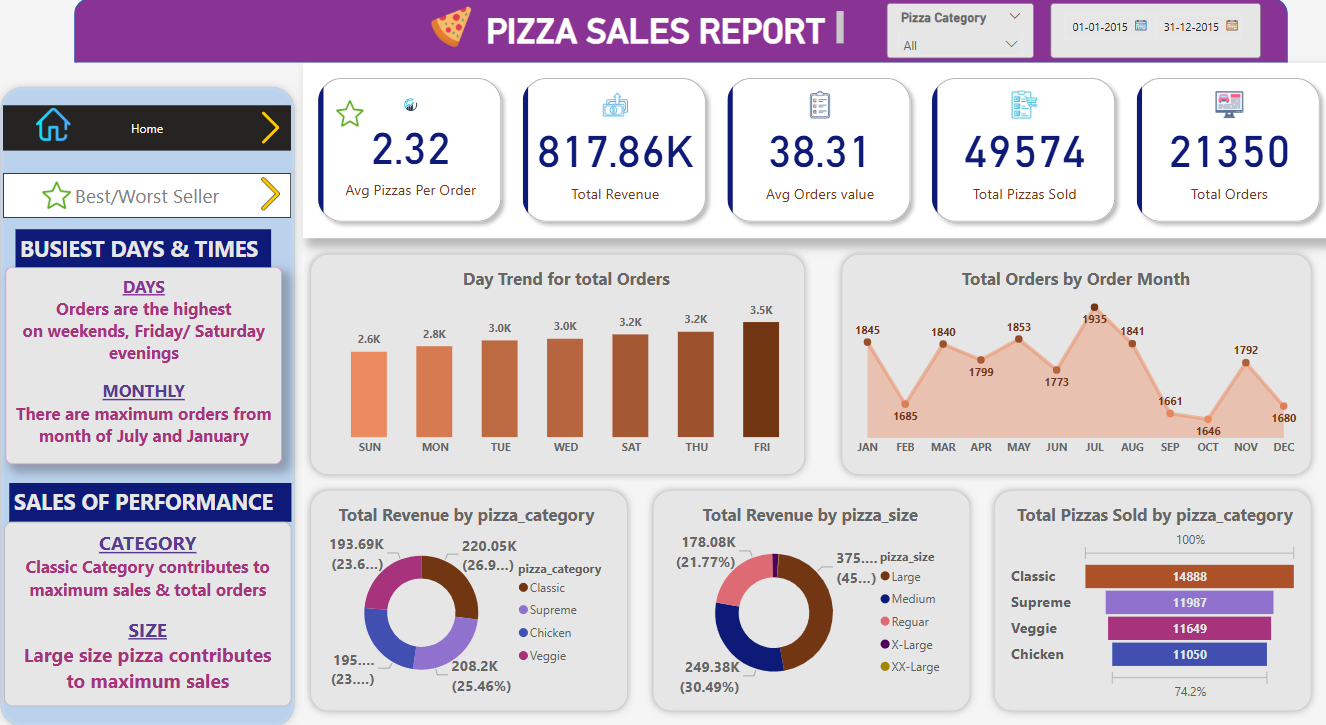

The page's visual inventory and layout, read from the dashboard file:
{"tool":"powerbi","page":{"name":"Home","canvas":[1500,820],"ordinal":0},"visuals":[{"type":"shape","box":[0,90,344.3,730],"z":0},{"type":"cardVisual","fields":{"Data":["your_file_formatted.Avg Pizzas Per Order","your_file_formatted.Total Revenue","your_file_formatted.Avg Orders value","your_file_formatted.Total Pizzas Sold","your_file_formatted.Total Orders"]},"box":[345.4,72.4,1154.5,195],"z":1000},{"type":"shape","box":[90,0,1352,72],"z":2000},{"type":"textbox","box":[544,10,408,50],"z":3000},{"type":"image","box":[478,4,66,56],"z":4000},{"type":"shape","box":[345,277.5,567.5,262.5],"z":5000},{"type":"columnChart","title":"Day Trend for total Orders","fields":{"Category":["your_file_formatted.Order Day"],"Y":["your_file_formatted.Total Orders"]},"box":[365,300,547.5,220],"z":6000},{"type":"textbox","box":[13.3,300,308.3,220],"z":7000},{"type":"shape","box":[937.5,277.5,540,262.5],"z":8000},{"type":"areaChart","fields":{"Category":["your_file_formatted.Order Month"],"Y":["your_file_formatted.Total Orders"]},"box":[952.5,300,507.5,220],"z":9000},{"type":"shape","box":[345,540,370,262.5],"z":10000},{"type":"shape","box":[727.5,540,370,262.5],"z":11000},{"type":"shape","box":[1107.5,540,370,262.5],"z":12000},{"type":"donutChart","fields":{"Category":["your_file_formatted.pizza_category"],"Y":["your_file_formatted.Total Revenue"]},"box":[365,562.5,325,220],"z":13000},{"type":"donutChart","fields":{"Category":["your_file_formatted.pizza_size"],"Y":["your_file_formatted.Total Revenue"]},"box":[747.5,562.5,325,220],"z":14000},{"type":"funnel","fields":{"Category":["your_file_formatted.pizza_category"],"Y":["your_file_formatted.Total Pizzas Sold"]},"box":[1130,562.5,330,226],"z":15000},{"type":"textbox","box":[25,257.5,285,42.5],"z":16000},{"type":"textbox","box":[18.6,540,314.3,42.9],"z":17000},{"type":"textbox","box":[12.9,582.9,320,205.7],"z":18000},{"type":"slicer","fields":{"Values":["your_file_formatted.pizza_category"]},"box":[995.7,5.7,164.3,61.4],"z":19000},{"type":"pageNavigator","box":[11.7,120,321.7,50],"z":19500},{"type":"slicer","fields":{"Values":["your_file_formatted.order_date"]},"box":[1178.6,5.7,234.3,61.4],"z":20000},{"type":"image","box":[281.7,121.7,56.7,46.7],"z":21000},{"type":"image","box":[365,108.3,65,40],"z":22000},{"type":"image","box":[43.3,113.3,48.3,56.7],"z":23000},{"type":"pageNavigator","box":[11.7,195,321.7,50],"z":25000},{"type":"image","box":[50,195,41.7,50],"z":25001},{"type":"image","box":[281.7,195,56.7,46.7],"z":25002}]}

Visuals, with their boxes in screenshot pixels (x1, y1, x2, y2), scaled from the page's 1500x820 canvas onto the 1326x725 screenshot:
shape: box=[0, 80, 304, 724]
cardVisual - your_file_formatted.Avg Pizzas Per Order x your_file_formatted.Total Revenue: box=[305, 64, 1325, 236]
shape: box=[80, 0, 1275, 64]
textbox: box=[481, 9, 842, 53]
image: box=[423, 4, 481, 53]
shape: box=[305, 245, 807, 477]
"Day Trend for total Orders" columnChart: box=[323, 265, 807, 460]
textbox: box=[12, 265, 284, 460]
shape: box=[829, 245, 1306, 477]
areaChart - your_file_formatted.Order Month x your_file_formatted.Total Orders: box=[842, 265, 1291, 460]
shape: box=[305, 477, 632, 710]
shape: box=[643, 477, 970, 710]
shape: box=[979, 477, 1306, 710]
donutChart - your_file_formatted.pizza_category x your_file_formatted.Total Revenue: box=[323, 497, 610, 692]
donutChart - your_file_formatted.pizza_size x your_file_formatted.Total Revenue: box=[661, 497, 948, 692]
funnel - your_file_formatted.pizza_category x your_file_formatted.Total Pizzas Sold: box=[999, 497, 1291, 697]
textbox: box=[22, 228, 274, 265]
textbox: box=[16, 477, 294, 515]
textbox: box=[11, 515, 294, 697]
slicer - your_file_formatted.pizza_category: box=[880, 5, 1025, 59]
pageNavigator: box=[10, 106, 295, 150]
slicer - your_file_formatted.order_date: box=[1042, 5, 1249, 59]
image: box=[249, 108, 299, 149]
image: box=[323, 96, 380, 131]
image: box=[38, 100, 81, 150]
pageNavigator: box=[10, 172, 295, 217]
image: box=[44, 172, 81, 217]
image: box=[249, 172, 299, 214]
